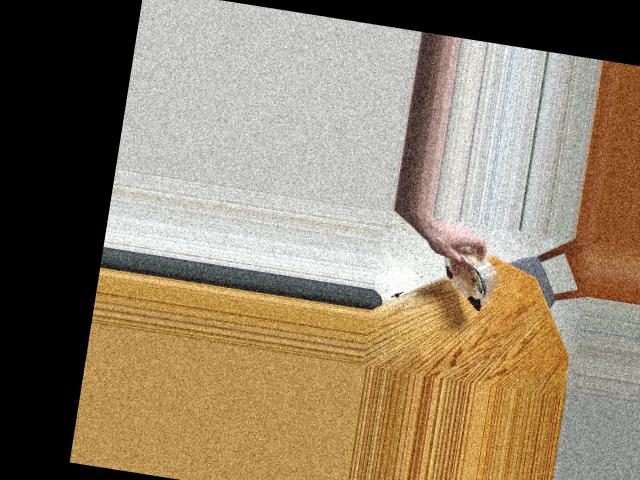cheese: (420, 243, 511, 314)
